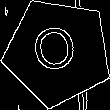O_S: (33, 23, 83, 81)
